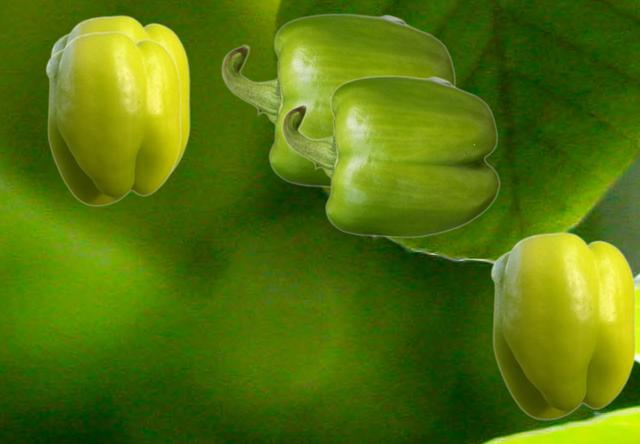bell_pepper: (221, 13, 456, 188), (281, 75, 499, 237), (490, 231, 635, 419), (45, 30, 180, 205), (50, 14, 189, 173)
